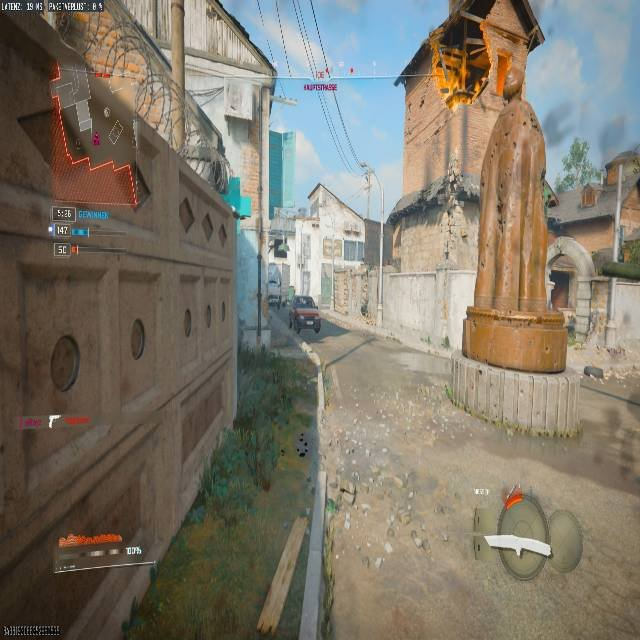player: (272, 235, 289, 261)
